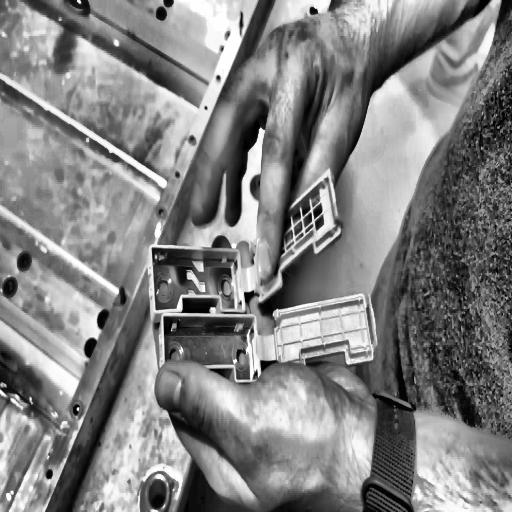connector: (123, 164, 389, 395)
